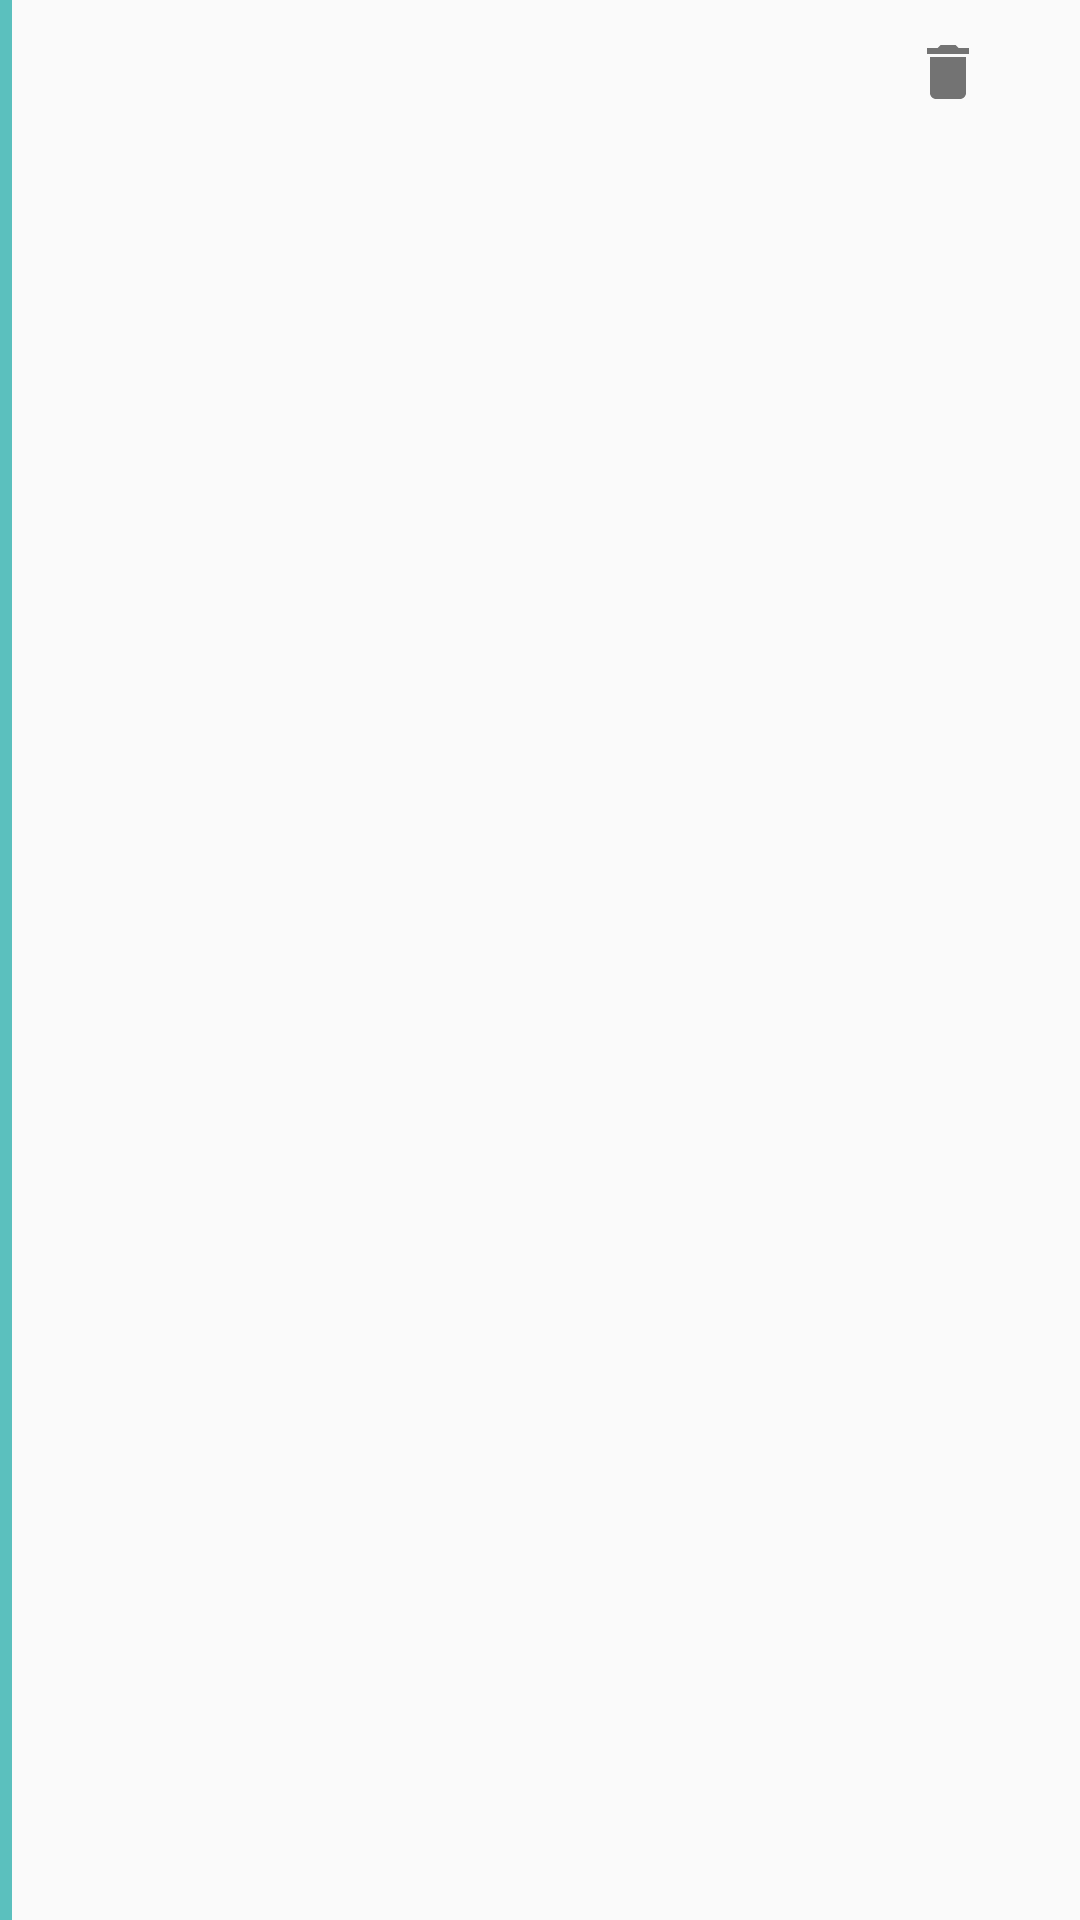

Screen size 1080w x 1920h. Icon name, then its center in pixels as (x=x, y=y):
delete: (x=948, y=72)
